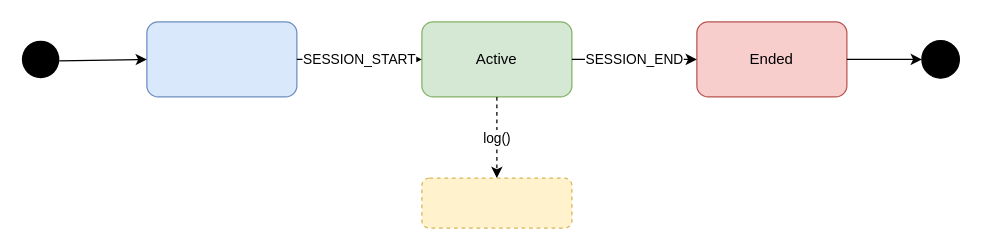
The diagram is 981 pixels wide and 250 high, and some of its shapes have lost their labels. Here are the shapes that lost their labels. From the top down, the centre of each, then its label:
At point 221,59: "Created".
At point 496,202: "Events Logged".
